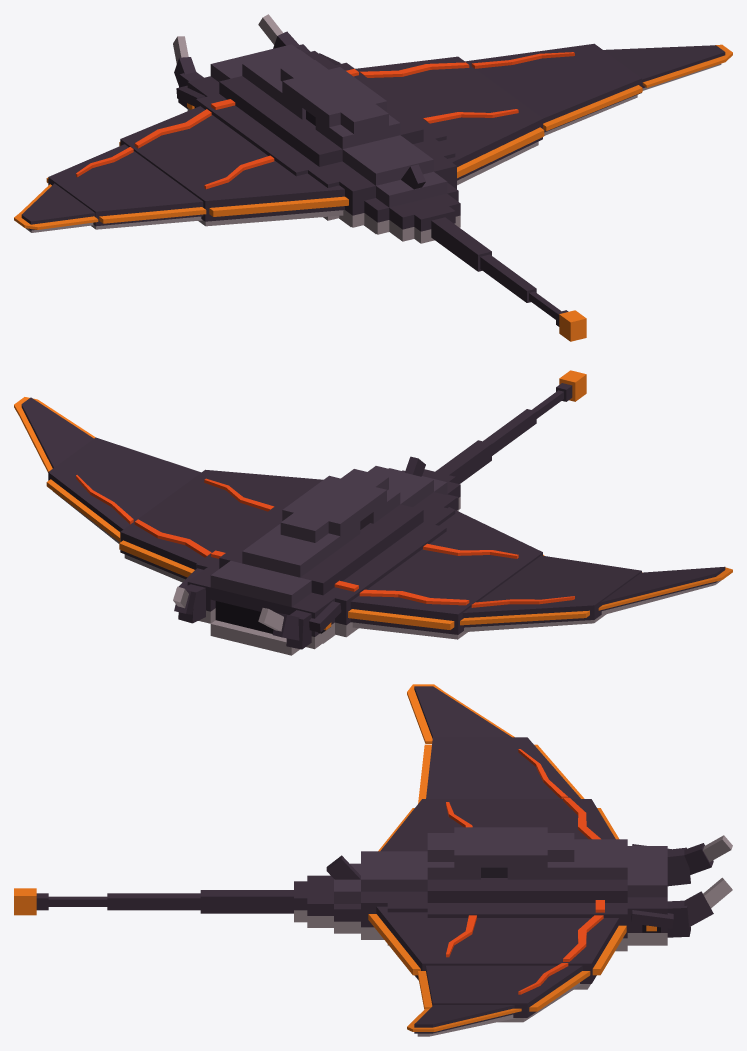
File: CinderRay.obj
3 renders of one model, top to bottom at view 1: azimuth 30°, elevation 25°; view 2: azimuth 150°, elevation 25°; view 3: azimuth 270°, elevation 25°, orthographic.
Visible parts, largest first — view 1: Body, WingL1, WingR1, WingR2, WingL2, WingR3, WingL3, Tail1, Tail3, Tail2, HornL, HornR; view 2: Body, WingL1, WingR1, WingR2, WingL2, WingL3, WingR3, HornL, Tail1, Tail3, HornR, Tail2; view 3: Body, WingR1, WingL2, WingL1, WingR2, WingL3, WingR3, Tail1, HornL, HornR, Tail2, Tail3.
Part boxes in pixels (x1,y1,x2,y2): Body: (176,44,460,243); WingL1: (119,106,348,226); WingR1: (355,56,544,185); WingR2: (465,43,642,135); WingL2: (46,144,206,229); WingR3: (603,44,732,90); WingL3: (14,183,98,232); Tail1: (431,217,491,271); Tail3: (529,291,586,341); Tail2: (480,254,536,302); HornL: (173,36,203,108); HornR: (258,14,310,52); Body: (178,456,460,655); WingL1: (348,507,544,639); WingR1: (119,469,323,582); WingR2: (46,437,200,543); WingL2: (460,555,642,632); WingL3: (598,566,732,615); WingR3: (14,397,95,472); HornL: (258,608,311,649); Tail1: (435,440,491,483); Tail3: (532,370,586,418); HornR: (173,584,205,623); Tail2: (483,409,536,455); Body: (294,827,673,951); WingR1: (368,906,626,989); WingL2: (418,737,584,803); WingL1: (378,797,619,851); WingR2: (418,963,590,1022); WingL3: (407,684,514,743); WingR3: (407,1005,521,1036); Tail1: (200,890,293,913); HornL: (667,835,732,886); HornR: (667,877,732,937); Tail2: (107,893,200,910); Tail3: (14,888,107,915).
Bounding box in the file's own units: 24.48 × 2.8 × 21.56.
Materials: 1 (1 with a texture image).
